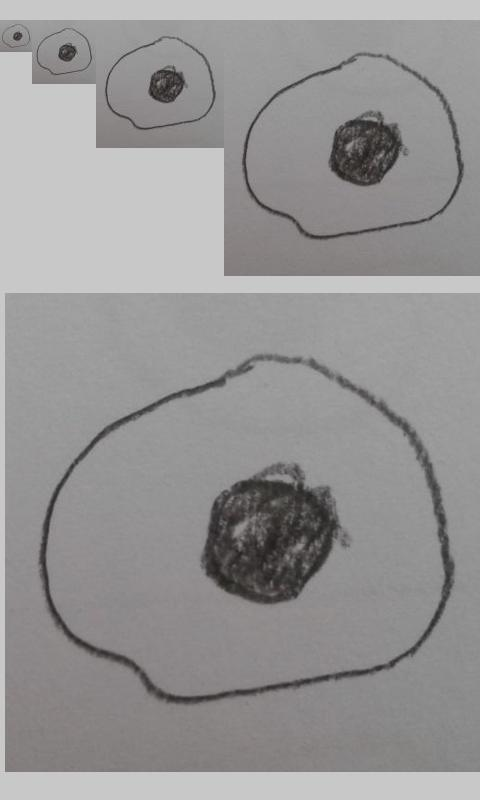radio_button: (37, 350, 454, 707), (240, 50, 464, 241), (104, 35, 217, 131), (35, 26, 93, 76), (1, 23, 31, 49)
